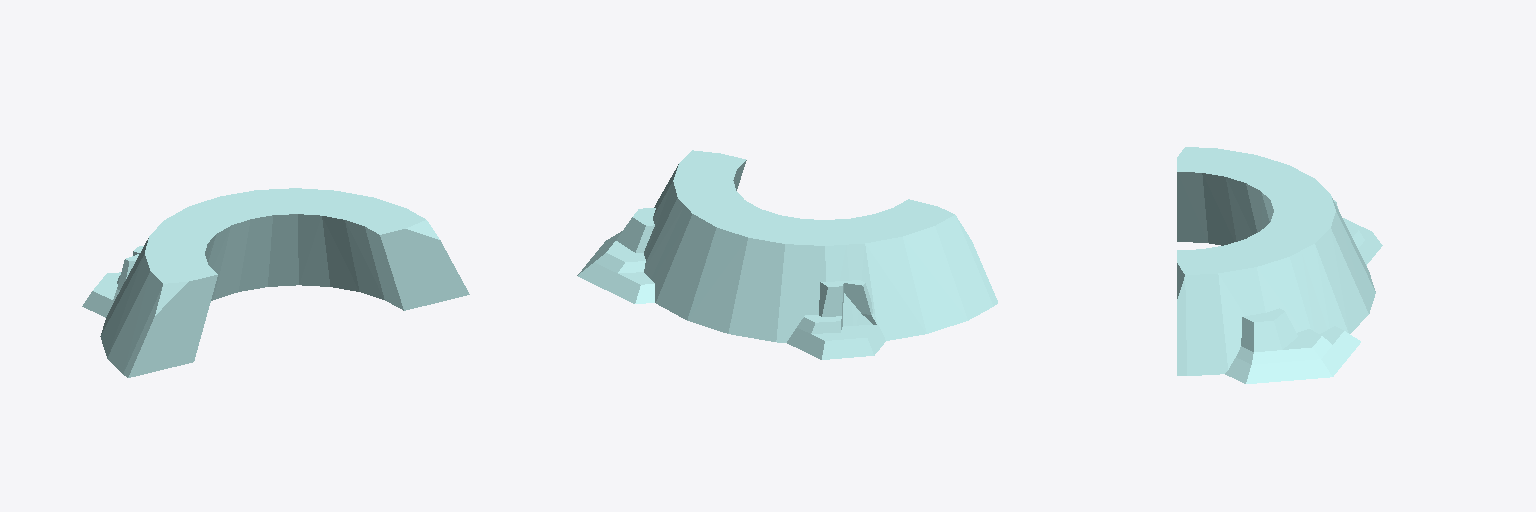
The model's file is snowFort.obj.
The picture shows the model from 3 angles: view 1: azimuth 30°, elevation 25°; view 2: azimuth 150°, elevation 25°; view 3: azimuth 270°, elevation 25°; orthographic projection.
Visible parts, largest first — view 1: snowFort; view 2: snowFort; view 3: snowFort.
Part boxes in pixels (x1,y1,x2,y2): snowFort: (82,188,469,377); snowFort: (577,150,997,359); snowFort: (1177,147,1382,383).
Size of the model in its own units: 1.33 by 0.2905 by 0.6613.